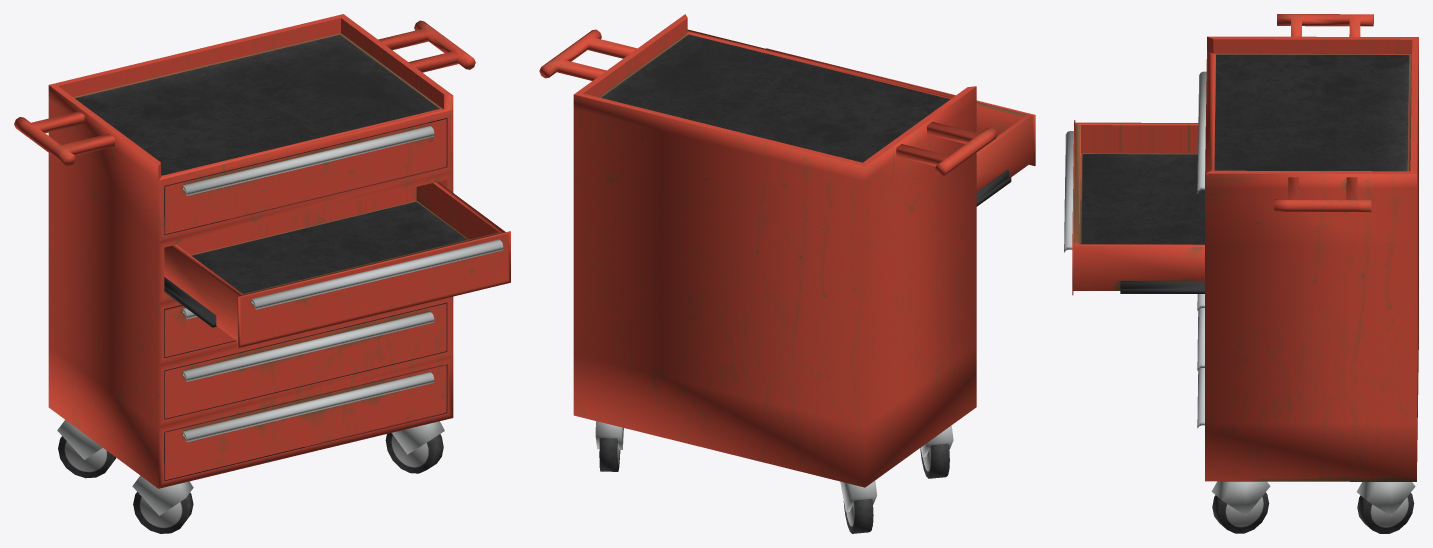
Rendered from ToolBox.fbx.
The picture shows the model from 3 angles, left to right: view 1: azimuth 30°, elevation 25°; view 2: azimuth 150°, elevation 25°; view 3: azimuth 270°, elevation 25°; orthographic projection. The views are drawn at different scales.
Parts seen in each view (by area): view 1: ToolBox; view 2: ToolBox; view 3: ToolBox.
Part boxes in pixels (left/top/right/bottom): ToolBox: left=14, top=14, right=510, bottom=533; ToolBox: left=539, top=14, right=1035, bottom=533; ToolBox: left=1064, top=14, right=1418, bottom=533.
Size of the model in its own units: 1029 by 917 by 806.
1 material, 1 textured.
